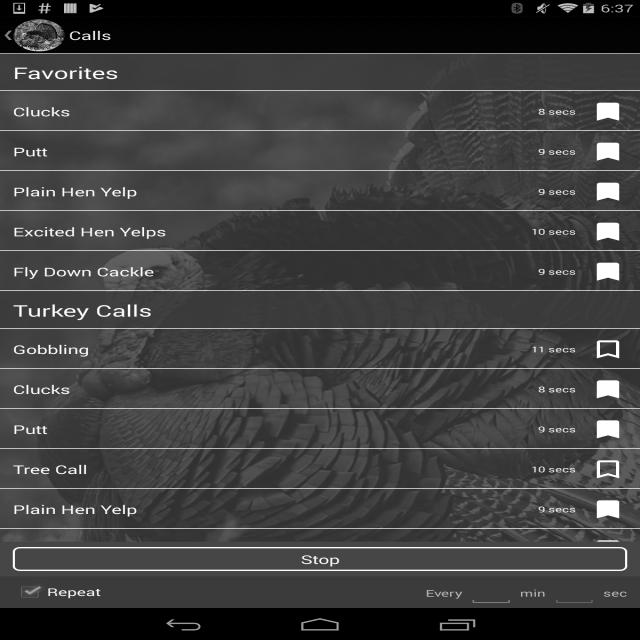Button: (13, 547, 627, 571)
CheckBox: (13, 581, 101, 603)
EditText: (468, 579, 514, 605), (552, 579, 597, 605)
ImageView: (0, 54, 640, 542), (14, 19, 64, 52), (576, 100, 627, 124), (576, 140, 627, 164), (576, 260, 627, 284), (576, 338, 627, 362), (576, 378, 627, 402), (576, 418, 627, 442), (576, 458, 627, 482), (576, 498, 627, 522), (576, 538, 627, 562), (576, 180, 627, 203), (576, 220, 627, 243), (0, 30, 17, 41)
TextView: (13, 62, 627, 84), (13, 300, 627, 321), (13, 103, 538, 120), (13, 143, 538, 160), (13, 183, 538, 200), (13, 263, 538, 280), (13, 223, 531, 240), (13, 381, 538, 397), (13, 421, 538, 437), (13, 501, 538, 517), (13, 341, 531, 357), (13, 461, 531, 477), (13, 541, 531, 557), (69, 27, 111, 43), (531, 226, 576, 237), (531, 344, 576, 354), (531, 464, 576, 474), (426, 587, 462, 599), (538, 106, 576, 117), (538, 146, 576, 157), (538, 186, 576, 197), (538, 266, 576, 277), (538, 384, 576, 394), (538, 424, 576, 434), (538, 504, 576, 514), (520, 587, 546, 599), (603, 587, 627, 599)
